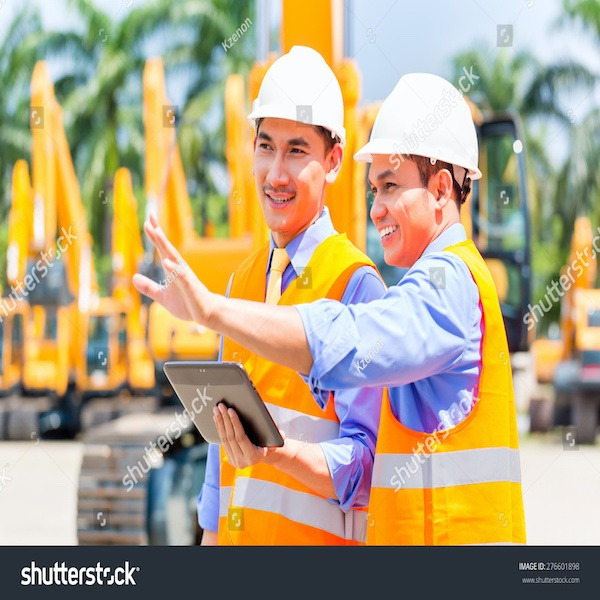helmet: (357, 69, 482, 161), (251, 46, 344, 124)
vest: (365, 229, 520, 535), (217, 250, 353, 541)
